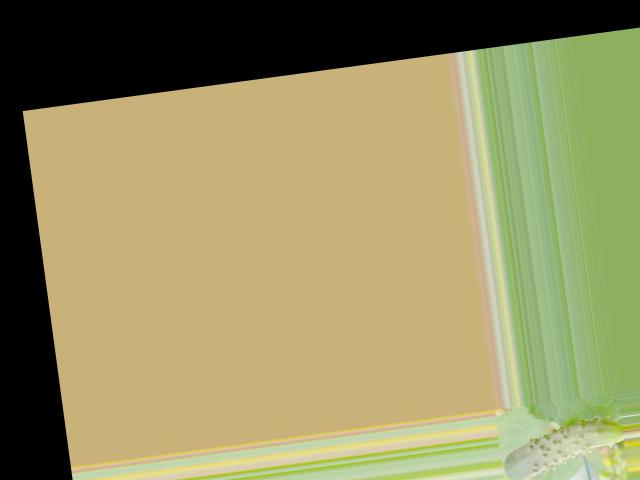cucumber: (498, 414, 627, 480)
